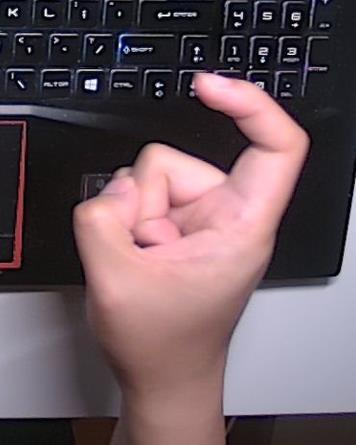anticlockwise: (67, 67, 312, 381)
